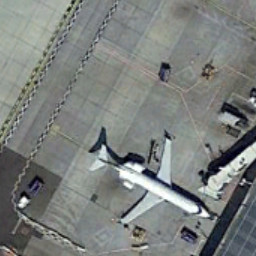Airplane: (82, 125, 218, 235)
